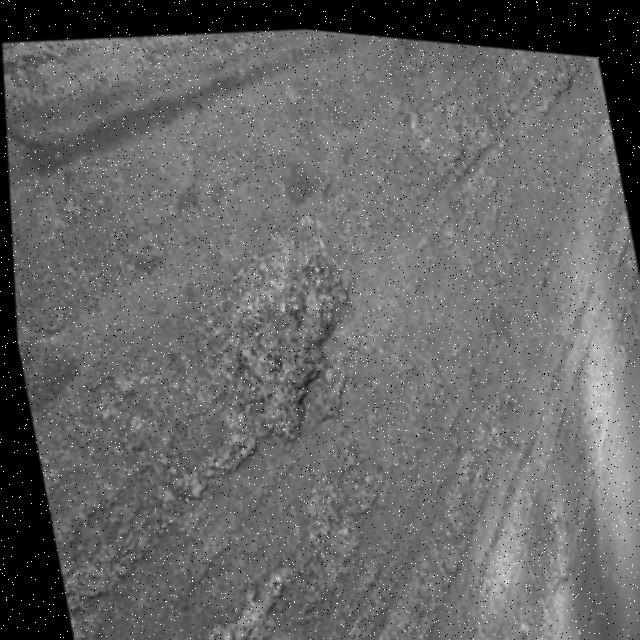pothole: (208, 221, 366, 452)
